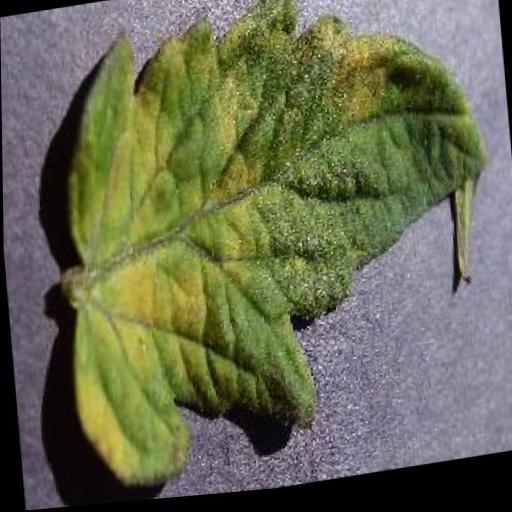Leaf Mold: (43, 0, 509, 499)
